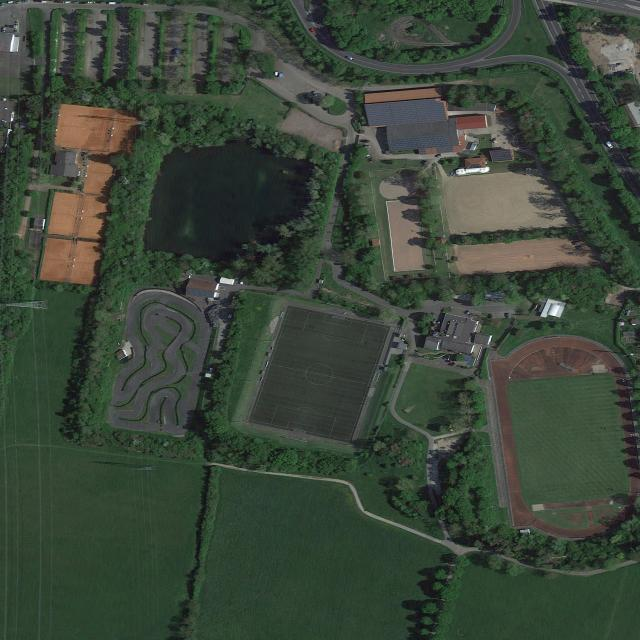small-vehicle: (605, 140, 614, 149), (309, 27, 317, 33), (345, 55, 354, 60), (436, 153, 443, 159), (106, 1, 117, 4), (209, 367, 214, 373), (312, 90, 317, 96), (315, 100, 320, 106), (175, 48, 180, 54), (140, 3, 150, 6), (13, 1, 22, 4), (54, 0, 63, 3), (79, 1, 88, 4), (361, 139, 370, 142), (487, 314, 492, 319), (22, 0, 30, 3), (71, 1, 79, 4), (506, 313, 510, 319), (437, 321, 441, 326), (466, 310, 470, 315), (167, 4, 176, 6), (95, 1, 103, 3), (88, 1, 95, 3), (63, 1, 70, 3), (214, 298, 221, 300), (116, 2, 122, 4), (3, 27, 5, 32)
